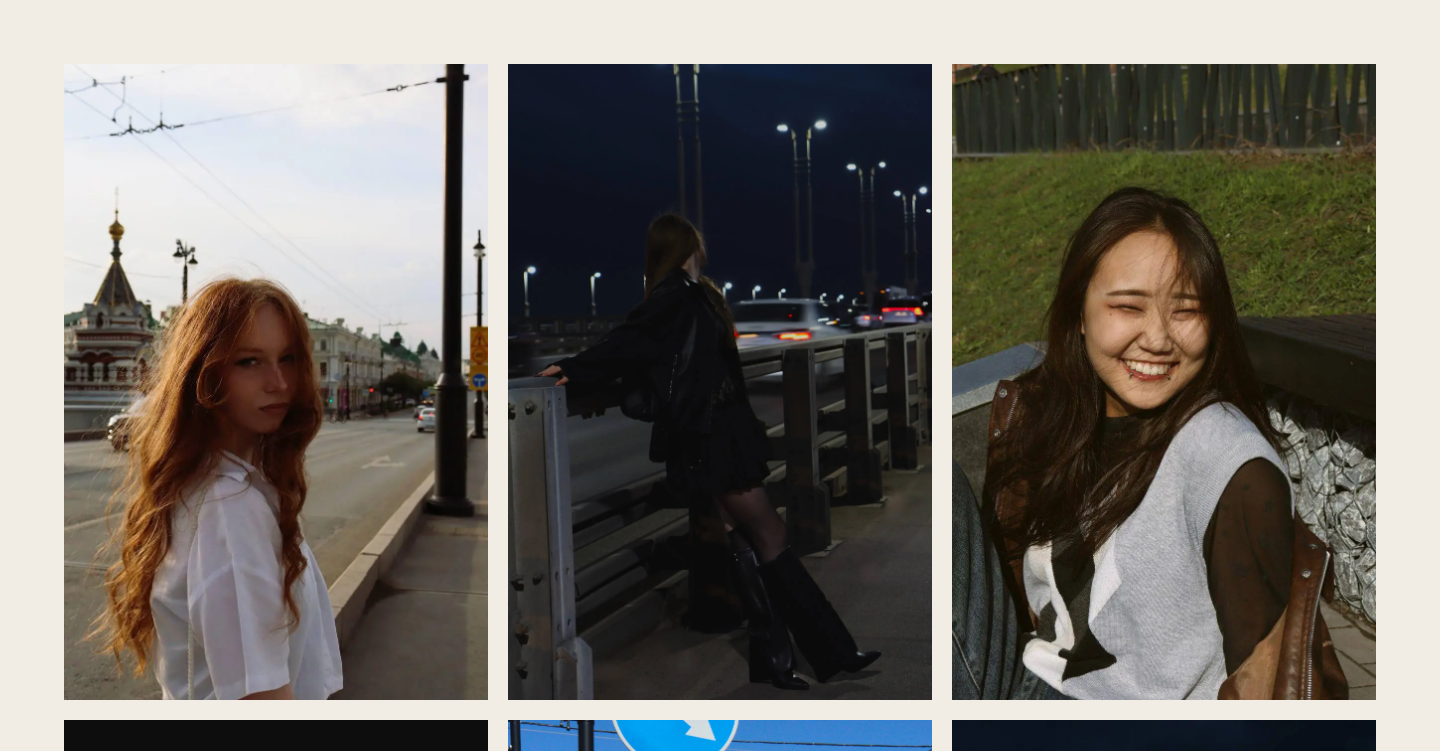
Test: PortfolioSection › клик по кадру открывает лайтбокс на этом кадре
The image size is (1440, 751).
(page scrolled)
Click the 3rd button at (1164, 382), box [952, 64, 1376, 700]
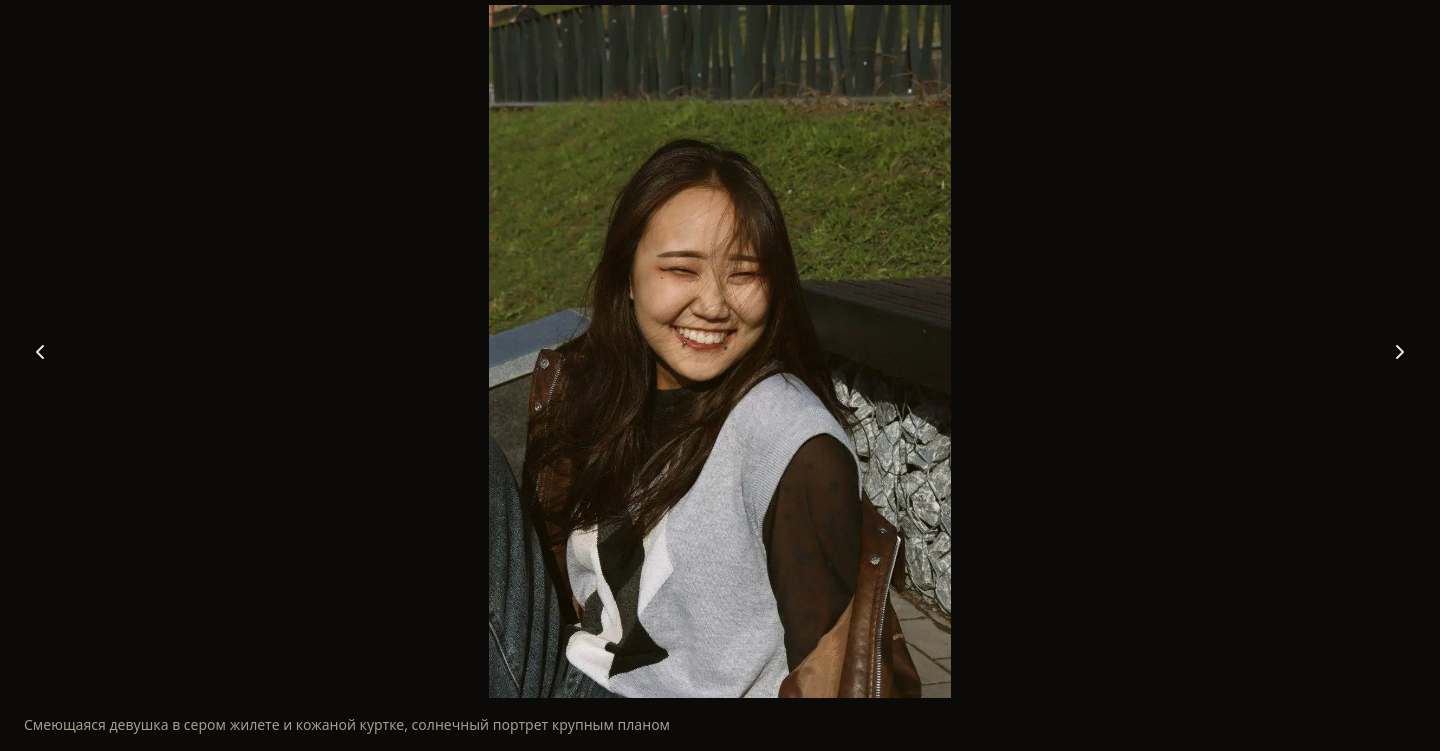
expect the picture named "Смеющаяся девушка в сером жилете и кожаной куртке, солнечный портрет крупным планом" is shown: met
